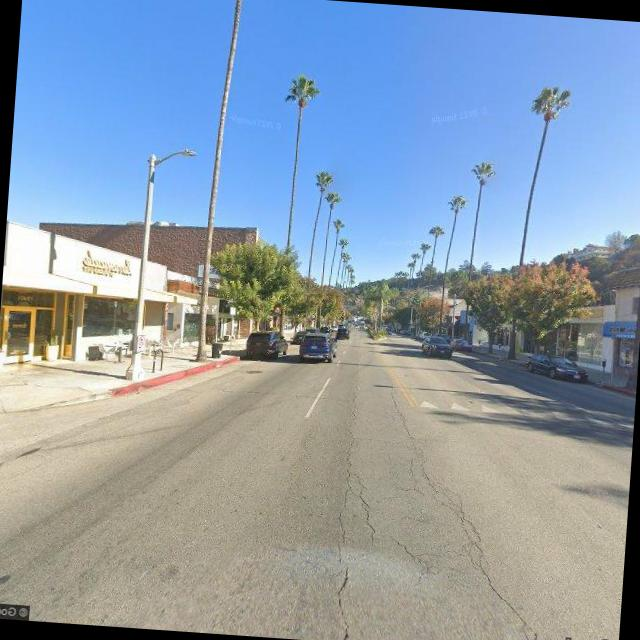pothole: (371, 387, 562, 640), (329, 376, 374, 640)
